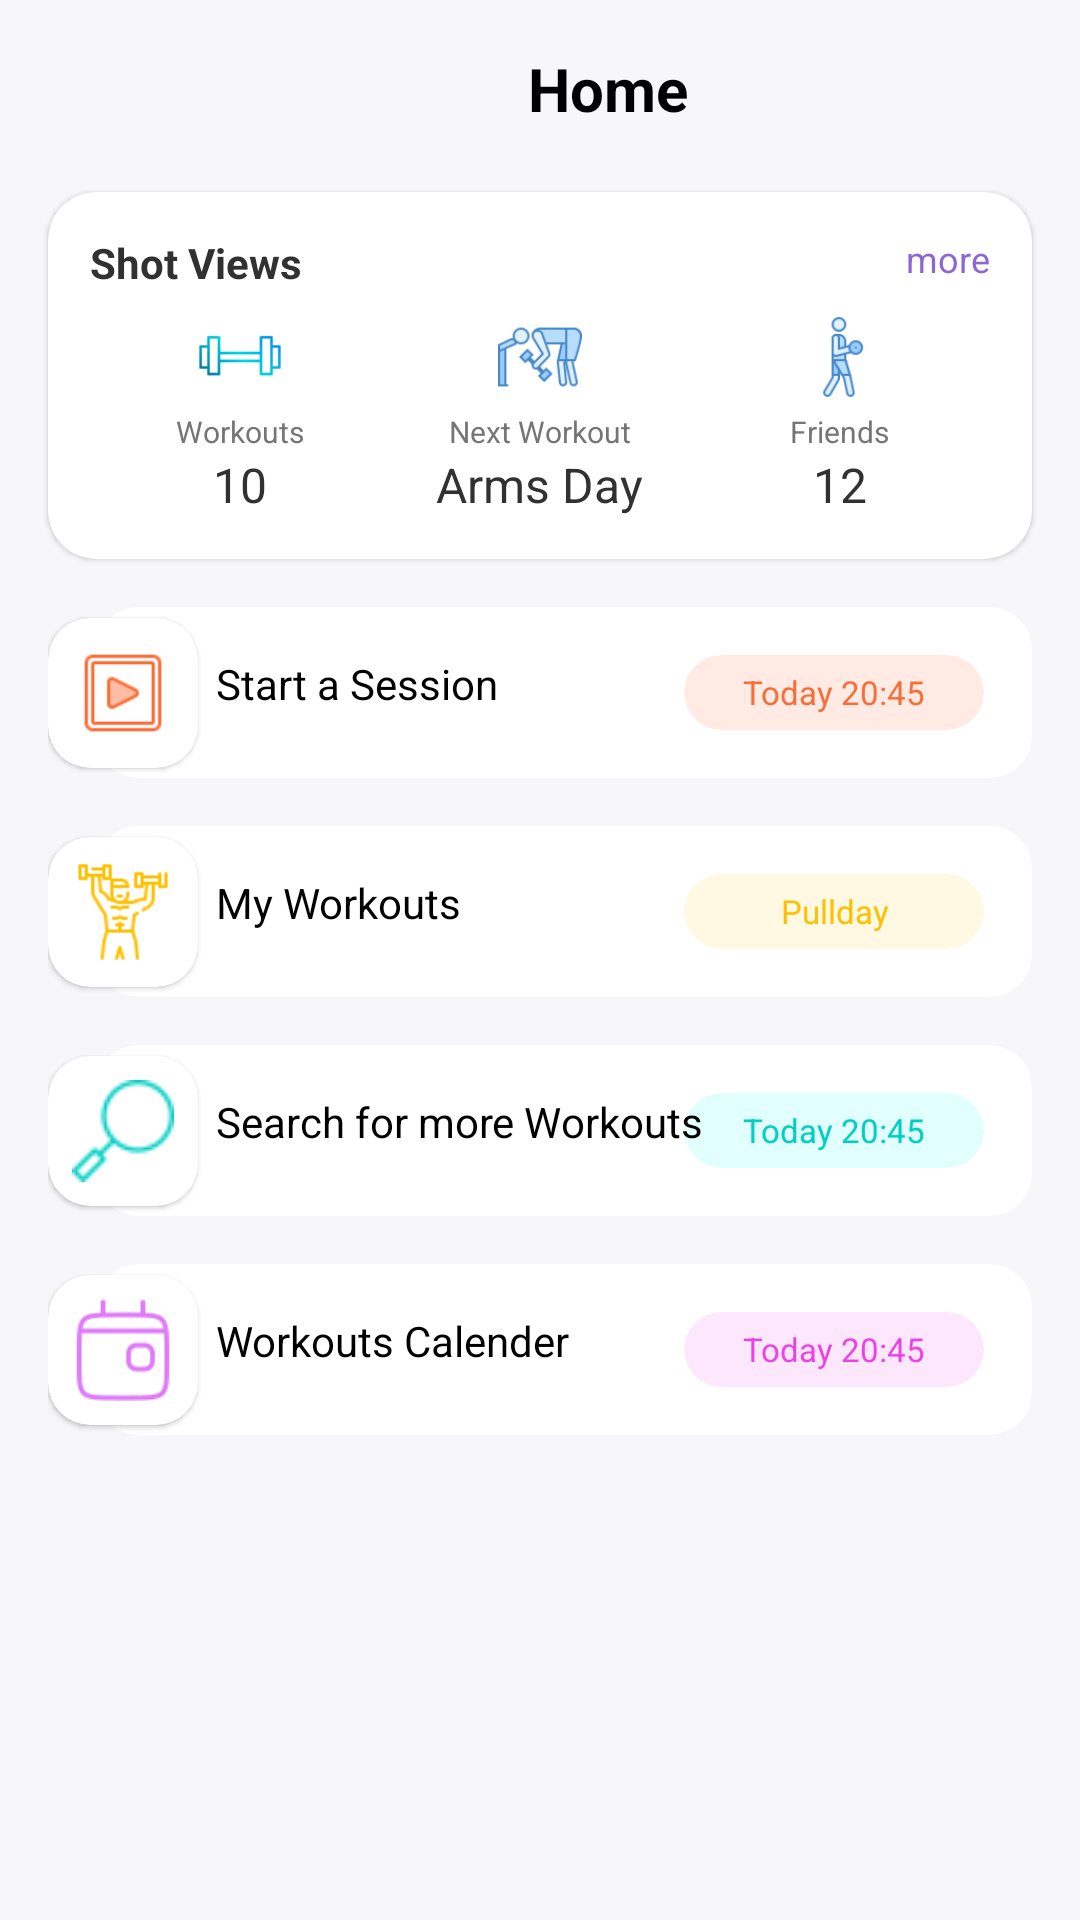

Icon click points for this 1080*1920 phone screenshot, format (x,y):
calender planner: (123,1350)
dumbel: (240,355)
search workout: (123,1131)
